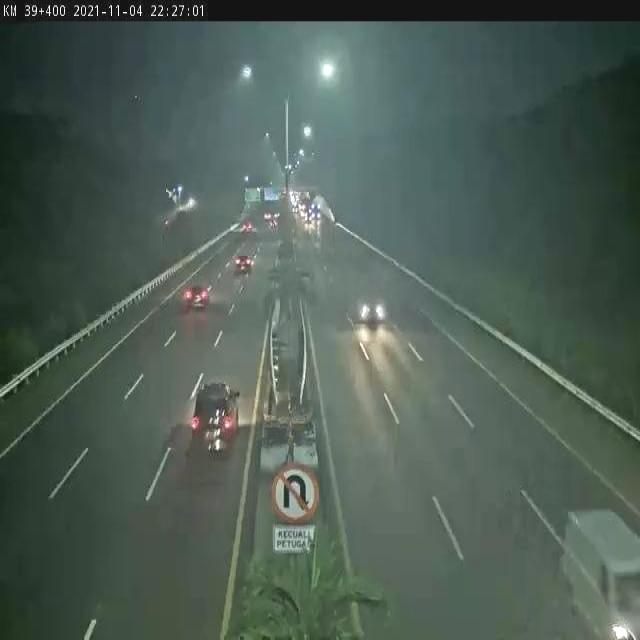Car: (559, 499, 640, 640), (190, 373, 248, 468), (352, 286, 389, 334), (181, 278, 219, 324), (228, 252, 259, 283)
